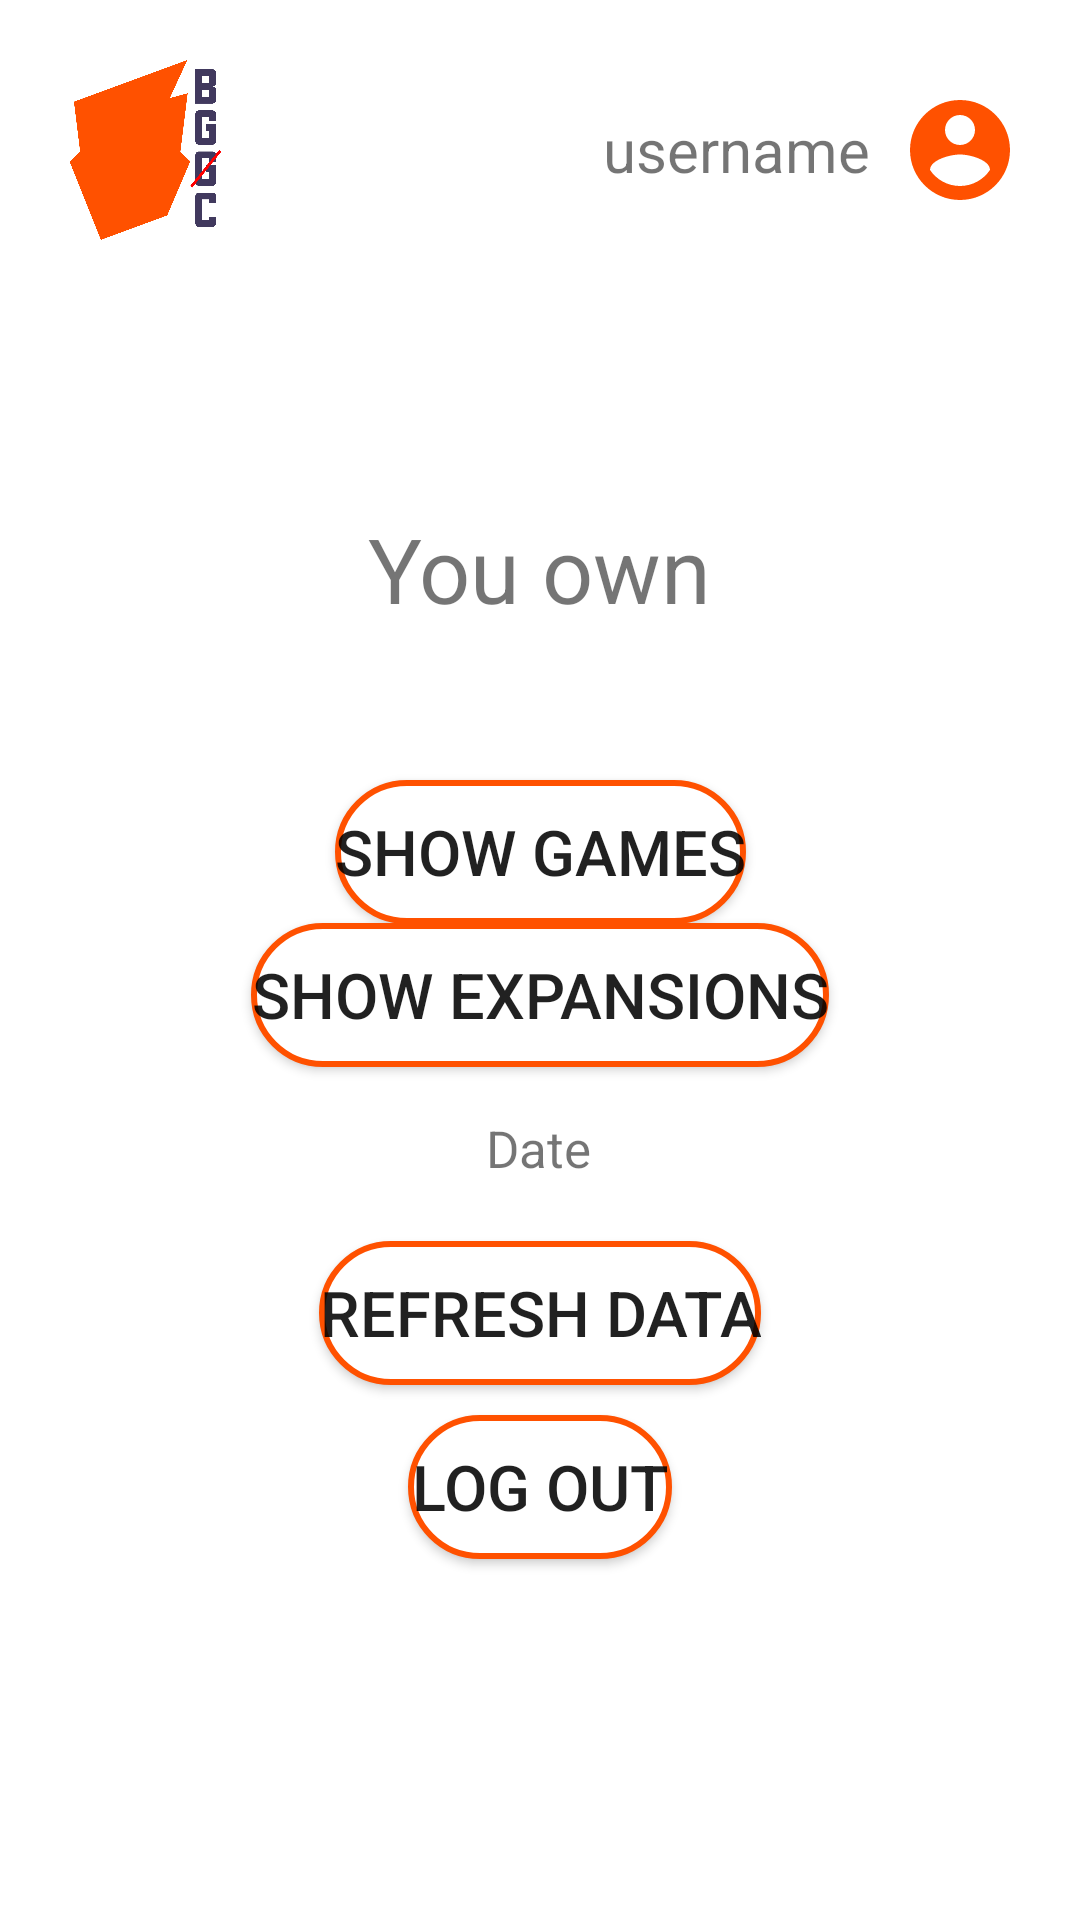

Where icons sit on this 1080px x 1920px app screen, as (x1, y1, x2, y2):
account circle: (910, 100, 1010, 200)
